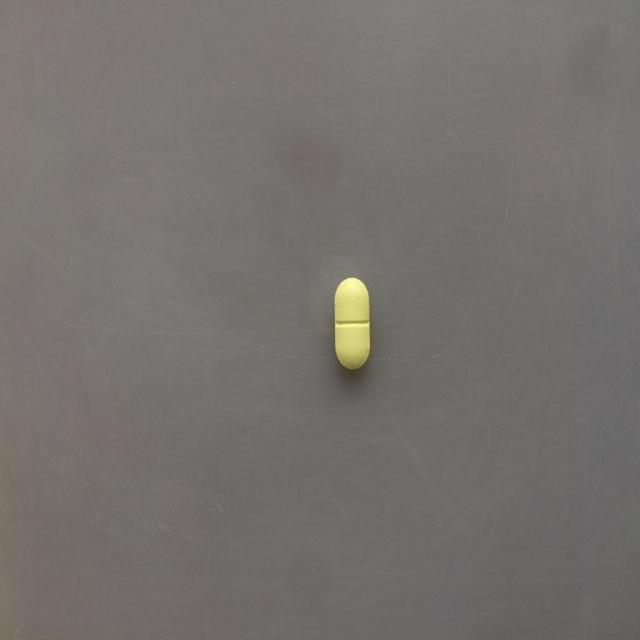pills: (326, 273, 381, 377)
